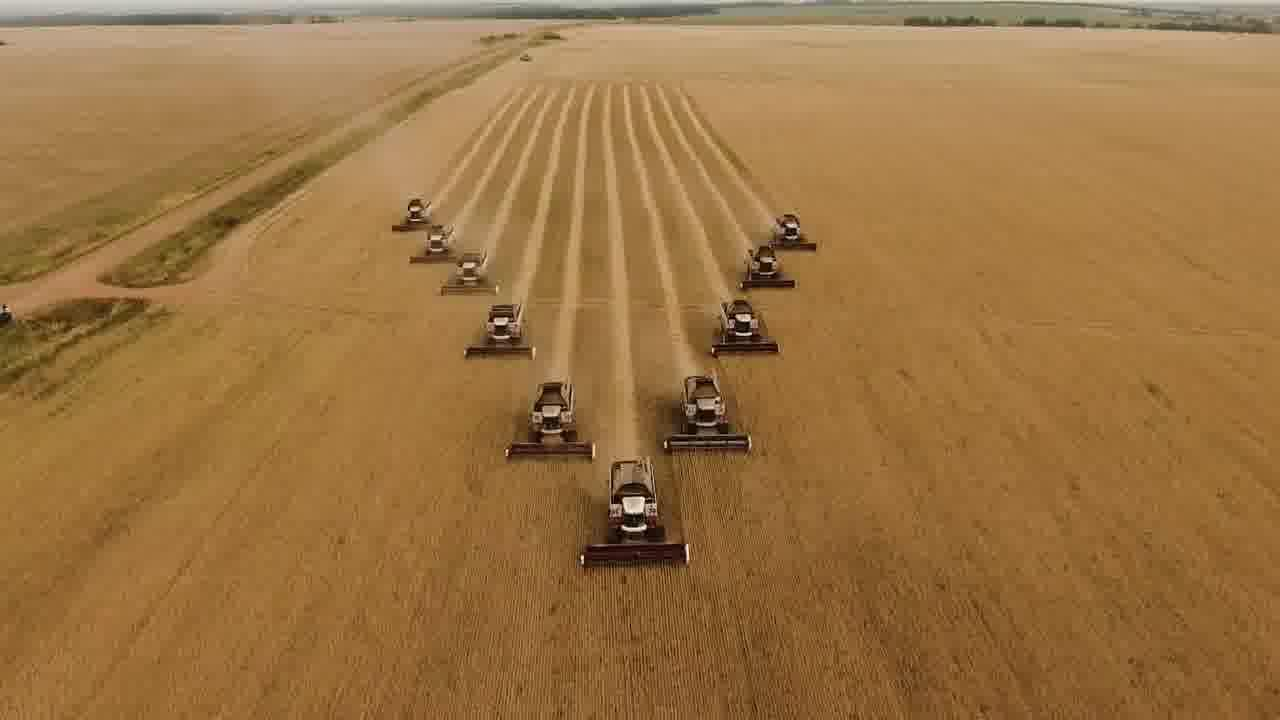combine harvester: (578, 453, 694, 573), (658, 371, 759, 462), (501, 375, 600, 466), (465, 297, 541, 364), (708, 298, 786, 363), (738, 246, 801, 297), (443, 246, 498, 296), (762, 209, 817, 254), (407, 221, 461, 265), (390, 193, 434, 232)
